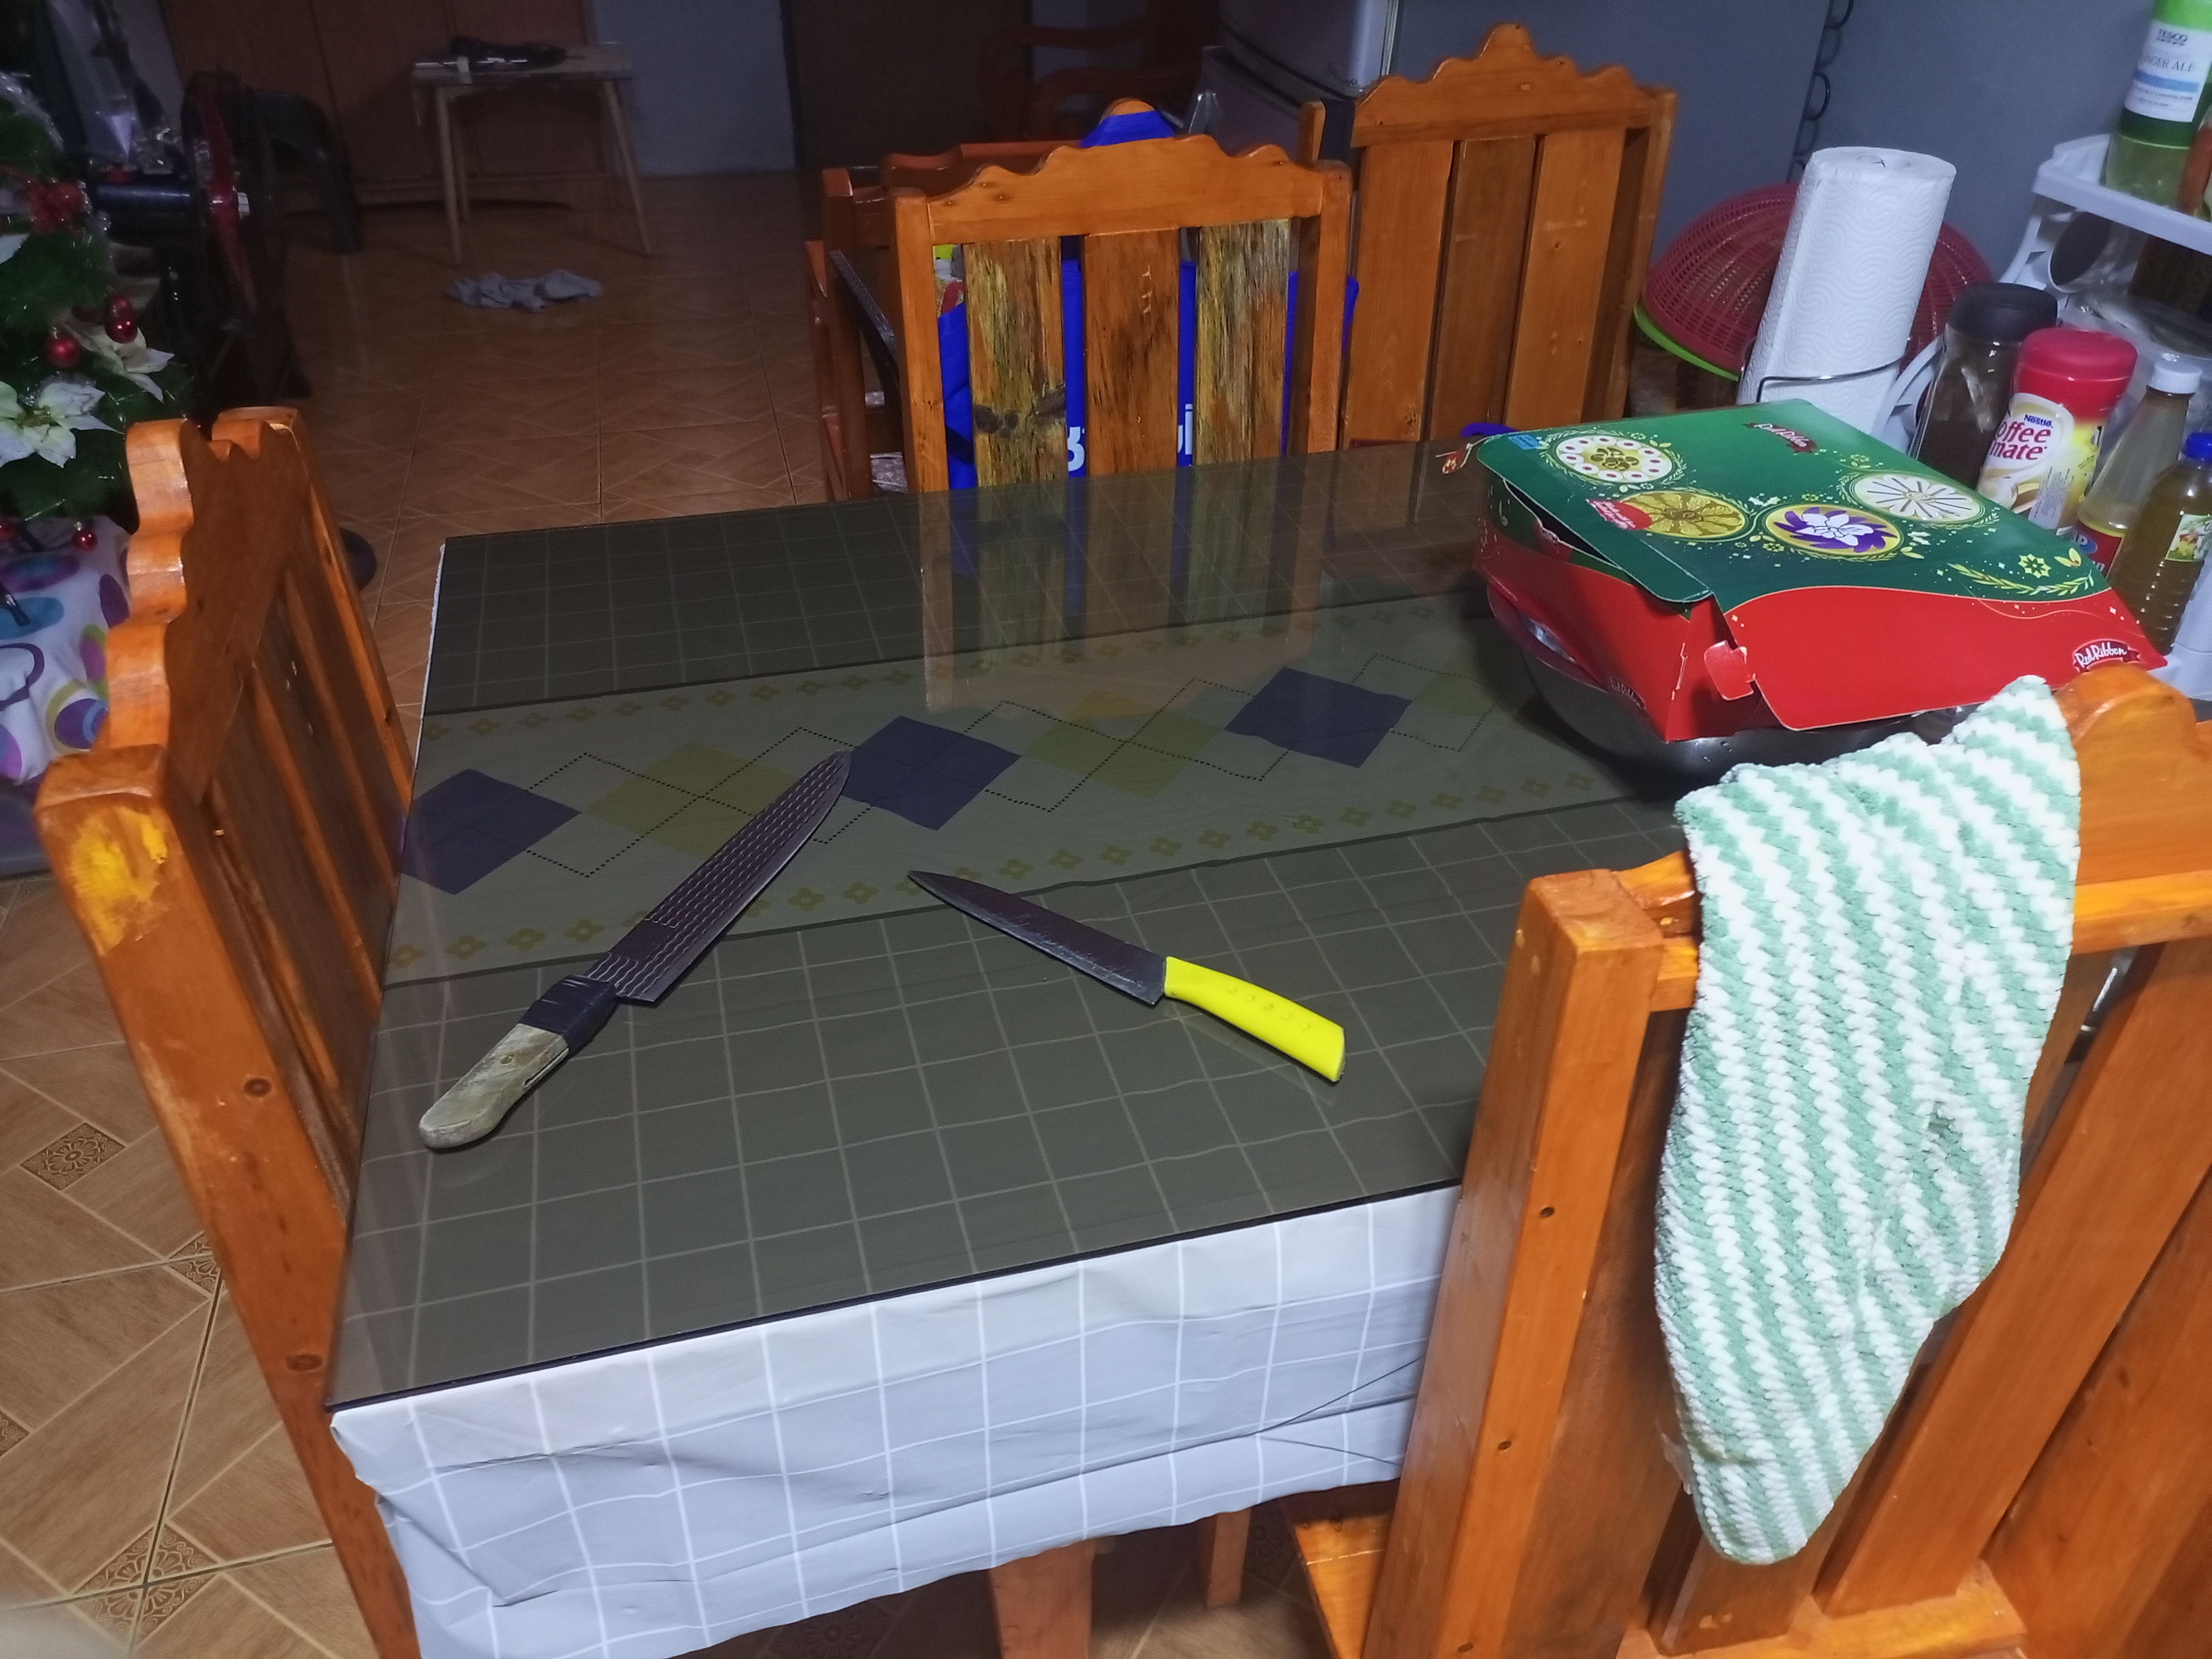knife: (402, 756, 857, 1152), (904, 864, 1355, 1096)
